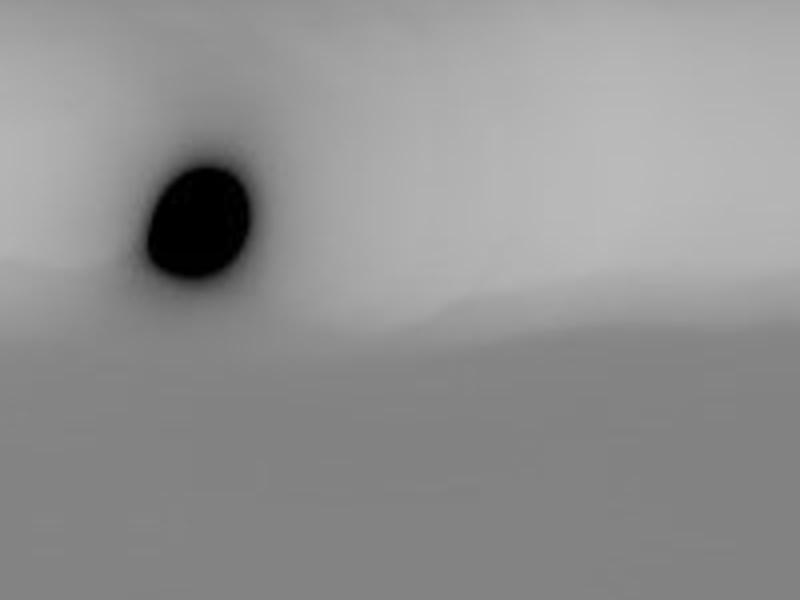defect: (143, 162, 254, 285)
